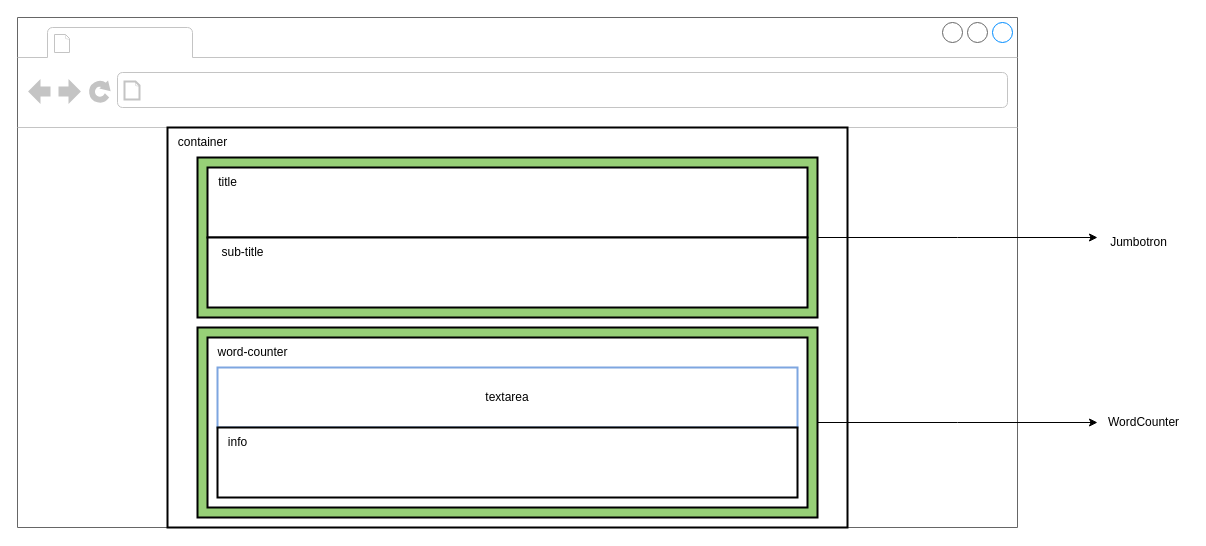
Some shapes in this 1206 by 546 pixel diagram are drawn without their labels. The shapes that lost their labels are listed below. From the top down, each one's centre as x and y in pixels, then its label:
(132,42): Word Counter
(272,90): https://www.word-counter.com
